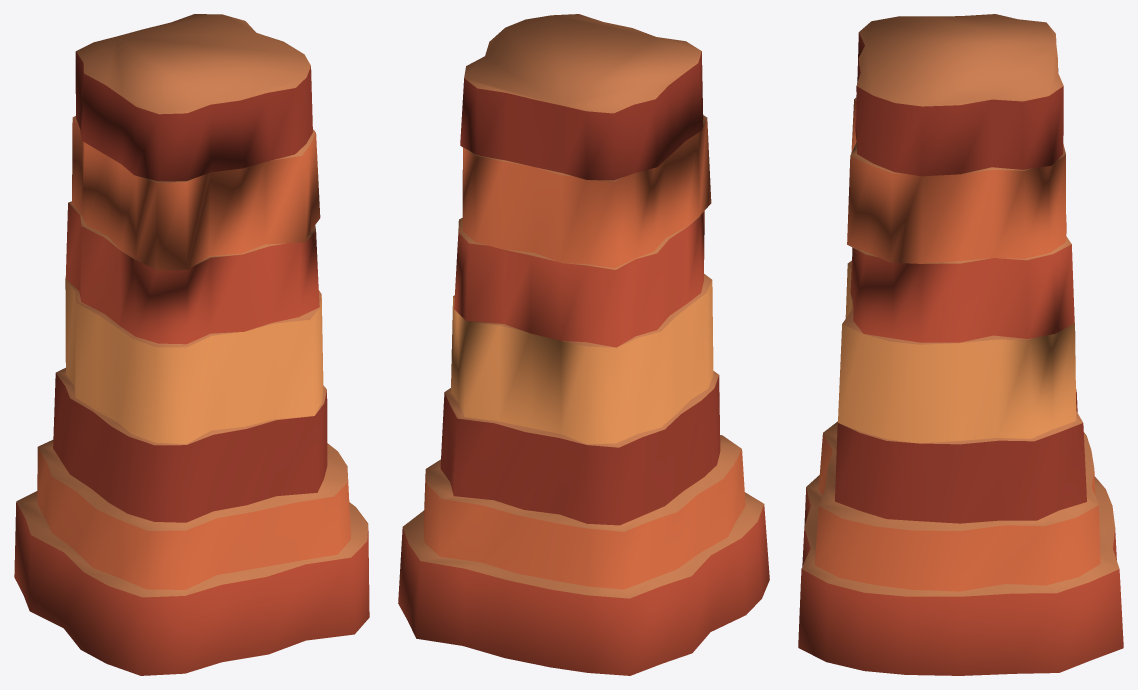
File: gulch_butte.glb
The picture shows the model from 3 angles, left to right: view 1: azimuth 30°, elevation 25°; view 2: azimuth 150°, elevation 25°; view 3: azimuth 270°, elevation 25°; orthographic projection. The views are drawn at different scales.
Visible parts, largest first — view 1: Butte.001; view 2: Butte.001; view 3: Butte.001.
Part boxes in pixels (bbox=[...]): Butte.001: bbox=[14, 14, 369, 675]; Butte.001: bbox=[398, 14, 769, 675]; Butte.001: bbox=[798, 14, 1123, 675].
Size of the model in its own units: 15.25 by 28 by 15.12.
